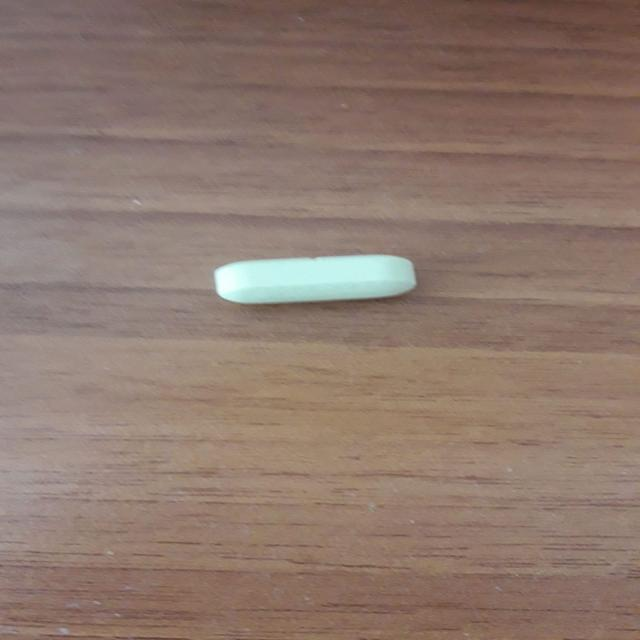pills: (192, 244, 435, 312)
